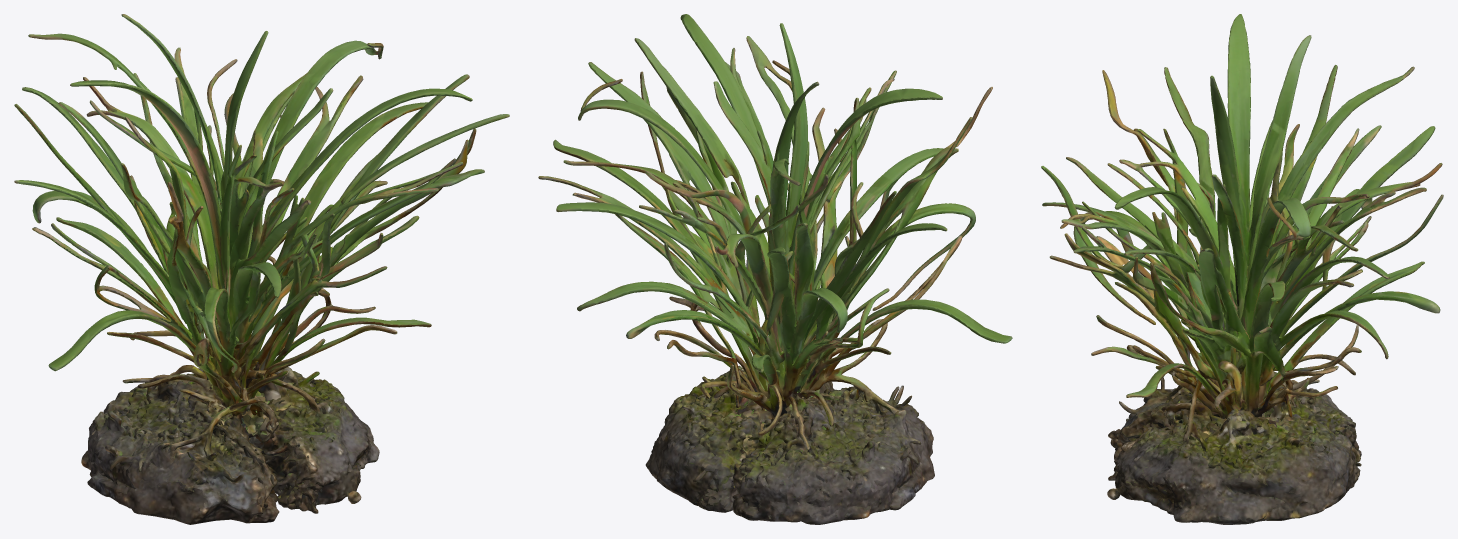
The model's file is rock-sedge-v13.glb.
3 renders of one model, left to right at view 1: azimuth 30°, elevation 25°; view 2: azimuth 150°, elevation 25°; view 3: azimuth 270°, elevation 25°, orthographic. The views are drawn at different scales.
Parts seen in each view (by area): view 1: geometry_0; view 2: geometry_0; view 3: geometry_0.
Boxes of the visible parts, <box> form: geometry_0: <box>14,14,509,524</box>; geometry_0: <box>538,14,1012,524</box>; geometry_0: <box>1041,14,1443,524</box>.
Bounding box in the file's own units: 0.4008 × 0.4 × 0.3568.
Materials: 1 (1 with a texture image).
